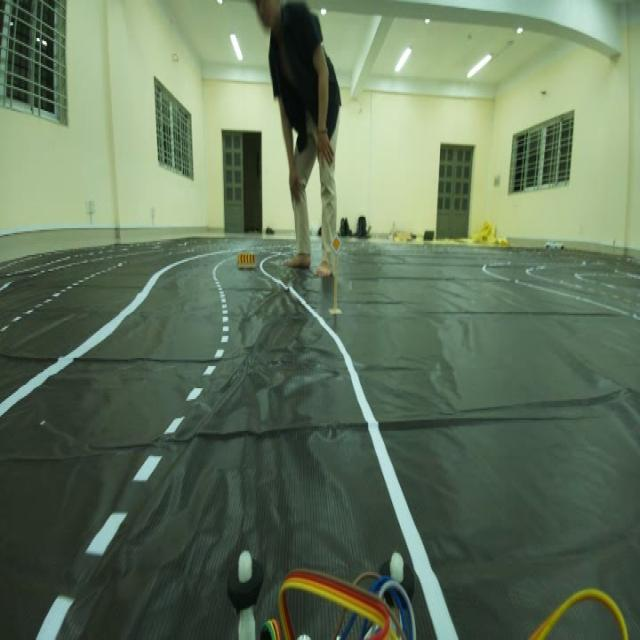priority: (329, 232, 344, 253)
